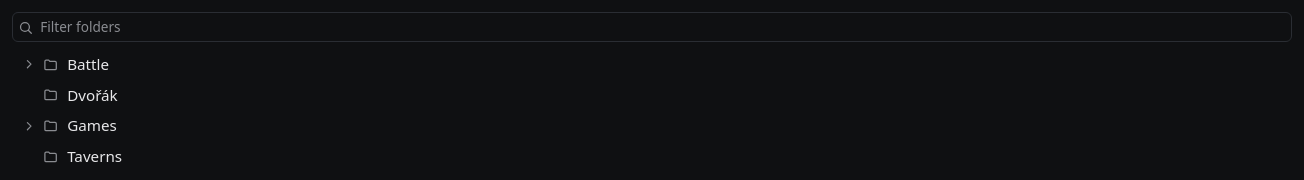
Test: FolderTree › filter matching is diacritic-insensitive
Expected: the text "Battle" is shown, [67,54,109,74]
Type "dvor" into the search field labelled "Filter folders".
click(652, 27); type("dvor")  # box [12,12,1292,42]
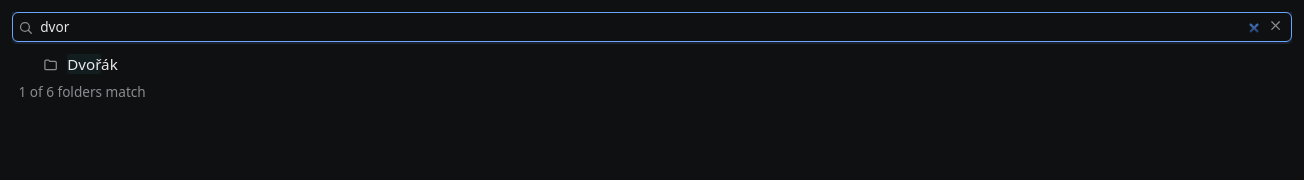
Expected: the list item titled "Dvořák" is shown, [12,49,1292,80]
Expected: the text titled "Games" is gone
